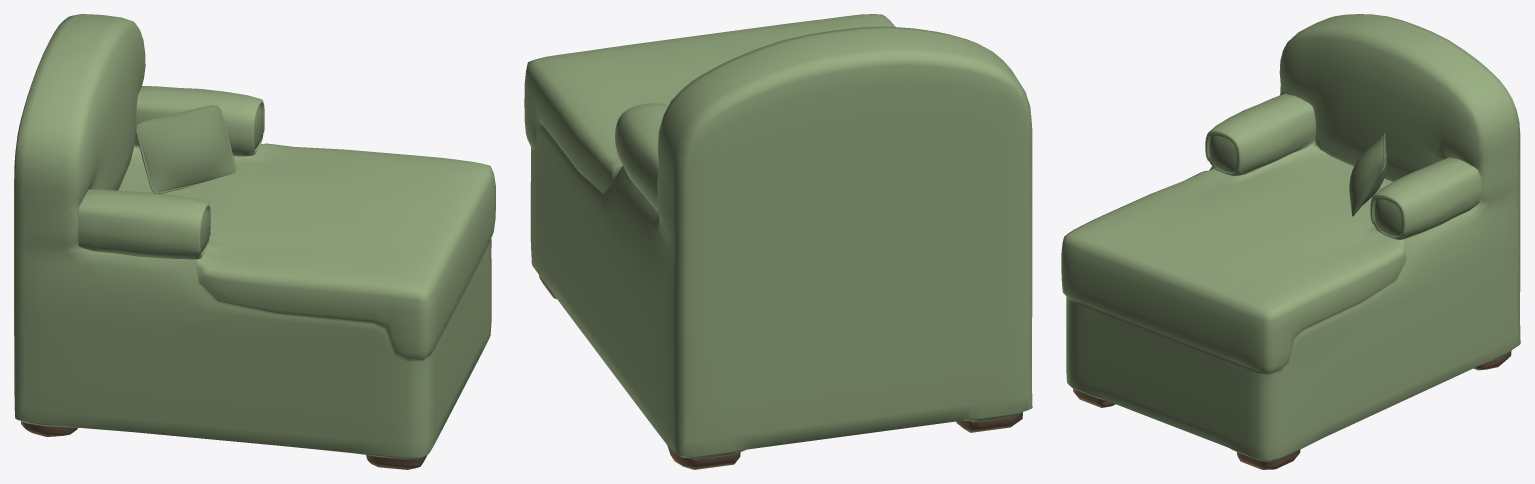
File: recliner_hp.fbx
3 renders of one model, left to right at view 1: azimuth 30°, elevation 25°; view 2: azimuth 150°, elevation 25°; view 3: azimuth 270°, elevation 25°, orthographic. The views are drawn at different scales.
Parts seen in each view (by area): view 1: cushionedChair_hp; view 2: cushionedChair_hp; view 3: cushionedChair_hp.
Boxes of the visible parts, x1=… form: cushionedChair_hp: x1=14, y1=14, x2=495, y2=469; cushionedChair_hp: x1=524, y1=14, x2=1032, y2=469; cushionedChair_hp: x1=1061, y1=14, x2=1520, y2=469.
Size of the model in its own units: 1.45 by 1.03 by 1.43.
